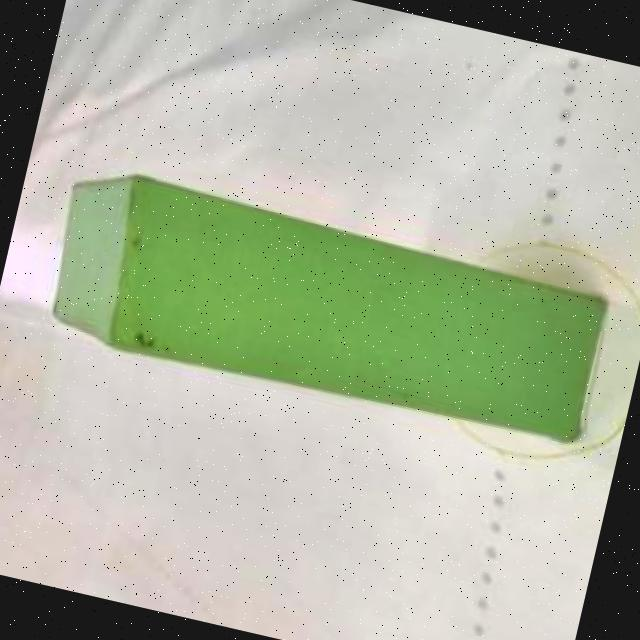greenbox: (40, 160, 612, 454)
